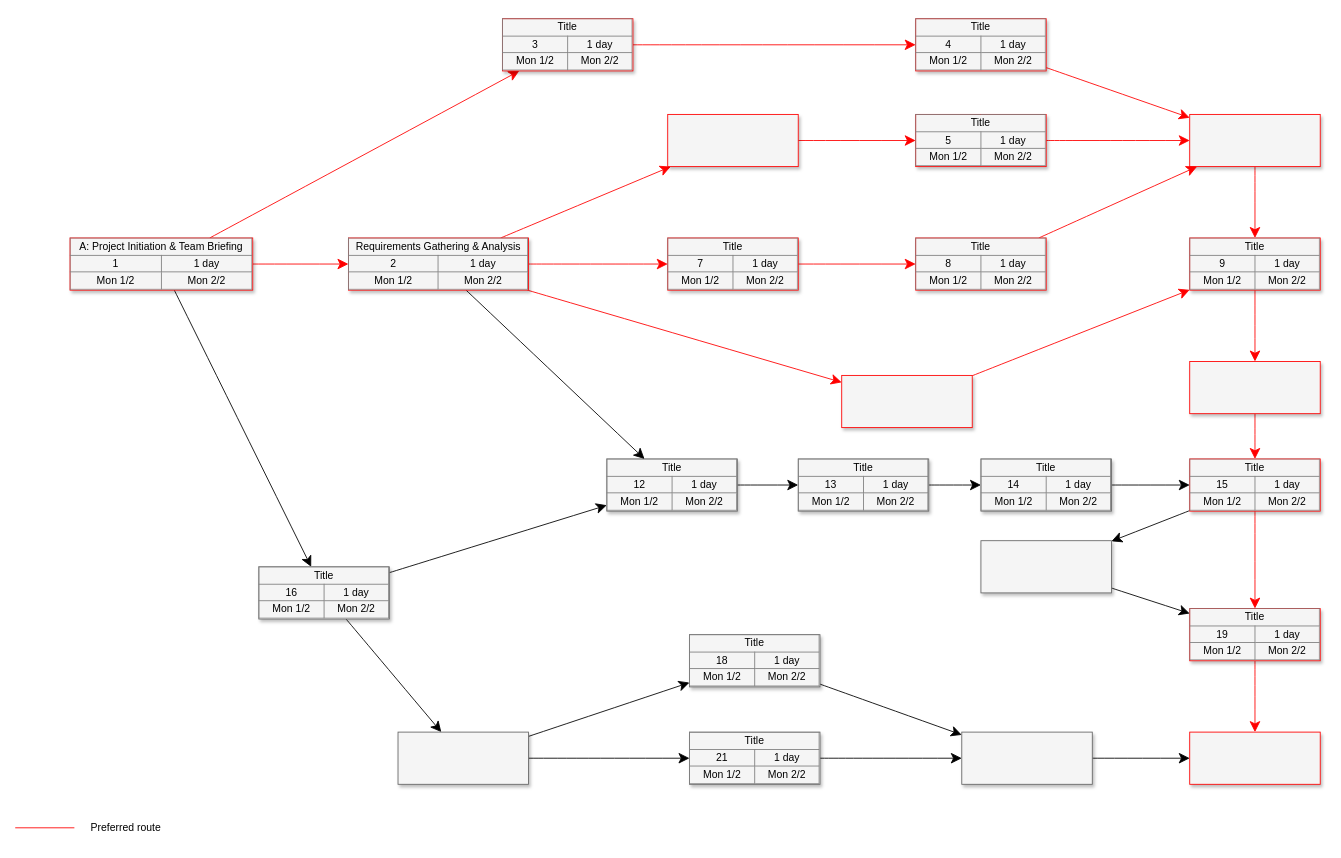
This 1341x858 diagram has some shape labels left out. The shapes that lost their labels are listed below. From the top down, each one's centre as x and y in pixels, then its label:
At point (733, 141): "Title 1 1 day Mon 1/2 Mon 2/2".
At point (1255, 141): "Title 6 1 day Mon 1/2 Mon 2/2".
At point (907, 402): "Title 10 1 day Mon 1/2 Mon 2/2".
At point (1255, 388): "Title 11 1 day Mon 1/2 Mon 2/2".
At point (1047, 567): "Title 17 1 day Mon 1/2 Mon 2/2".
At point (464, 759): "Title 20 1 day Mon 1/2 Mon 2/2".
At point (1027, 759): "Title 22 1 day Mon 1/2 Mon 2/2".
At point (1255, 759): "Title 23 1 day Mon 1/2 Mon 2/2".
